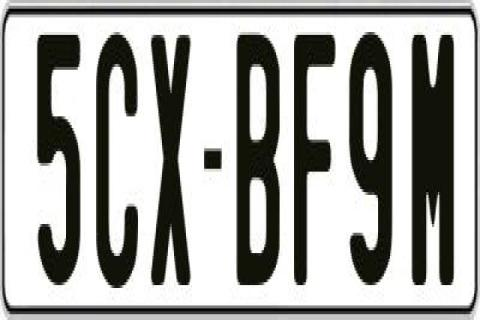0: (348, 29, 394, 288), (34, 32, 76, 285)
B: (234, 35, 278, 294)
C: (96, 26, 146, 288)
F: (294, 27, 338, 280)
M: (410, 26, 451, 282)
X: (152, 26, 194, 294)
